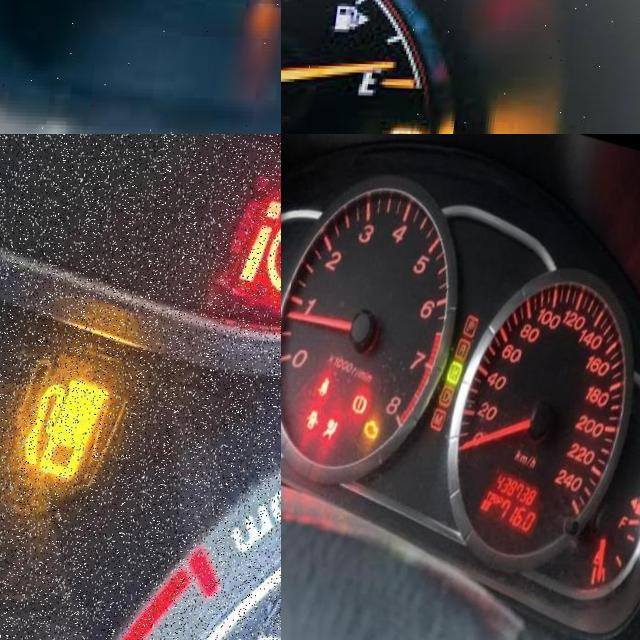Electronic Power Steering: (230, 178, 281, 312)
Seat Belt: (324, 375, 337, 396)
